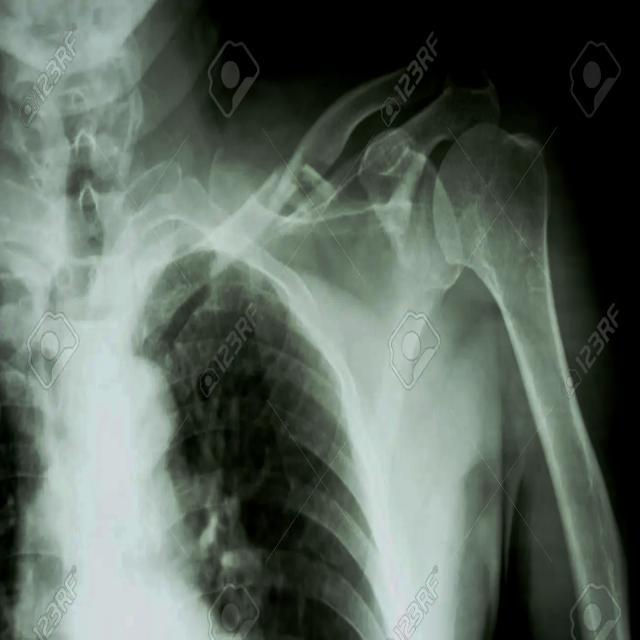Comminuted Fracture: (395, 57, 530, 164)
